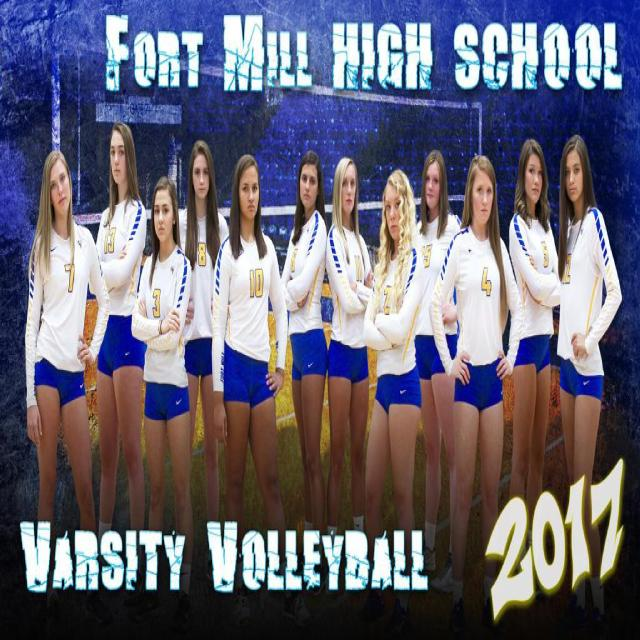body: (428, 153, 523, 622), (24, 148, 110, 532), (556, 131, 622, 621), (212, 147, 288, 544), (130, 175, 194, 600), (362, 167, 425, 574), (506, 135, 563, 577), (93, 118, 145, 602), (178, 138, 232, 582), (276, 148, 328, 604), (413, 149, 463, 595), (325, 155, 374, 597)
